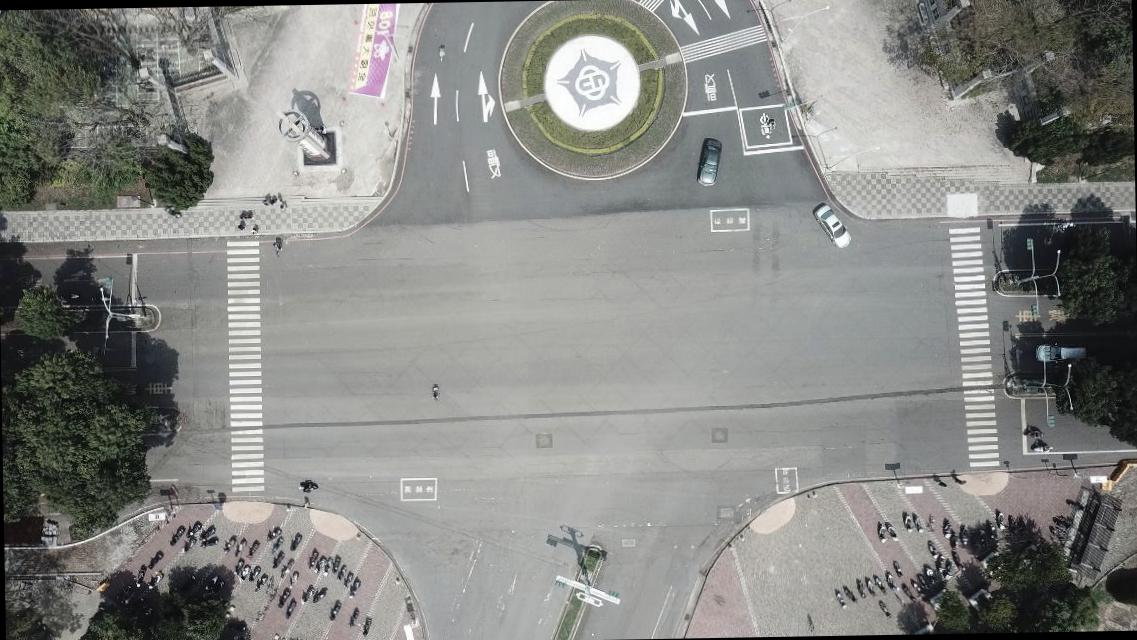vehicle: (813, 204, 852, 248), (695, 138, 723, 186), (1036, 343, 1086, 363)
